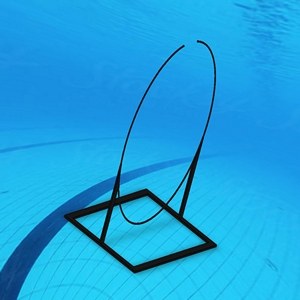circle: (63, 34, 228, 278)
